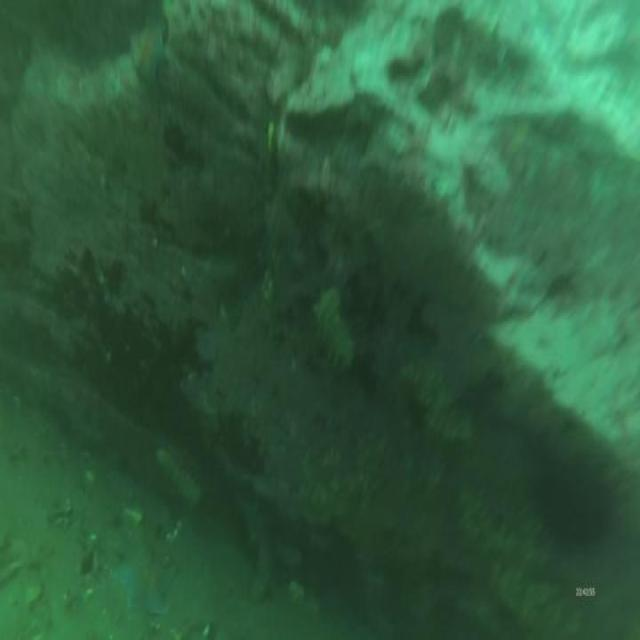echinus: (531, 463, 613, 553)
holothurian: (308, 283, 358, 387), (234, 490, 277, 607), (154, 439, 205, 509)
starfish: (107, 545, 177, 624)
